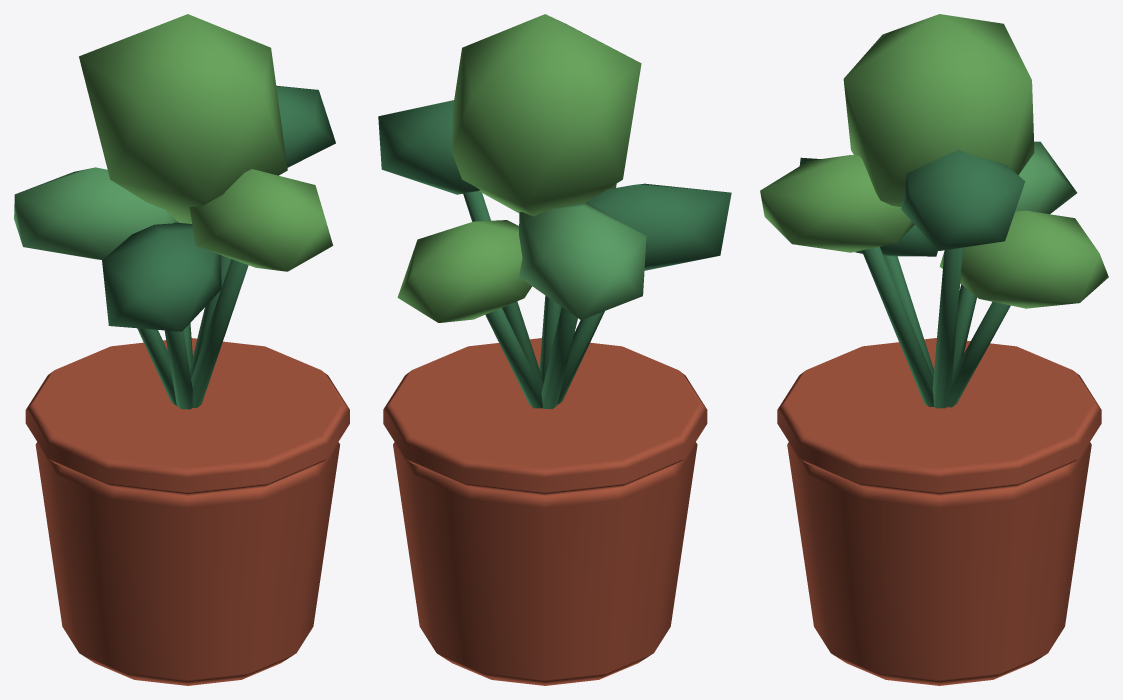
Rendered from plant_pot.glb.
The picture shows the model from 3 angles, left to right: view 1: azimuth 30°, elevation 25°; view 2: azimuth 150°, elevation 25°; view 3: azimuth 270°, elevation 25°; orthographic projection.
Parts seen in each view (by area): view 1: plant_pot; view 2: plant_pot; view 3: plant_pot.
Part boxes in pixels (x1,y1,x2,y2): plant_pot: (14,14,349,685); plant_pot: (378,14,731,685); plant_pot: (760,14,1108,685).
Bounding box in the file's own units: 0.4328 × 0.8958 × 0.4521.
